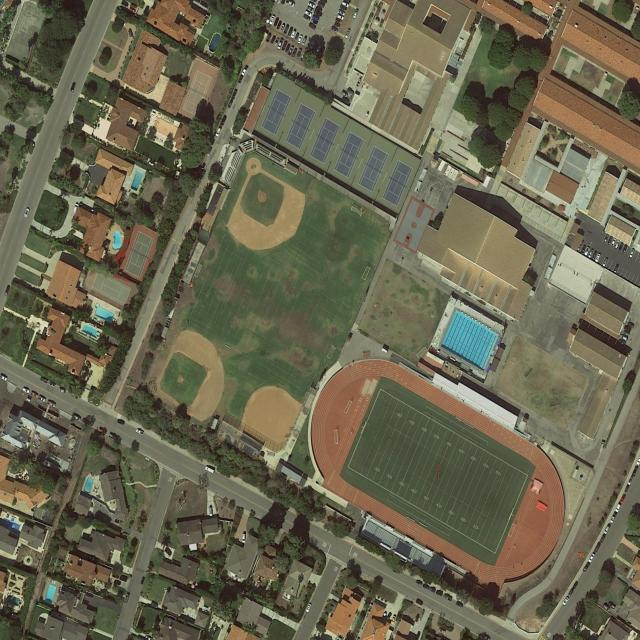small-vehicle: (23, 206, 31, 218), (205, 466, 215, 475), (109, 432, 118, 441), (240, 66, 248, 76), (562, 596, 570, 606), (591, 249, 597, 262), (281, 40, 288, 51), (290, 28, 297, 39), (286, 26, 293, 37), (268, 14, 275, 25), (220, 115, 227, 126), (305, 602, 312, 613), (603, 233, 610, 244), (581, 243, 588, 254), (629, 248, 636, 259), (619, 494, 626, 505), (583, 562, 590, 573), (608, 601, 616, 610), (215, 126, 221, 138), (603, 603, 611, 612), (150, 601, 159, 609), (165, 547, 173, 556), (415, 578, 424, 586), (444, 593, 453, 601), (136, 428, 145, 436), (40, 376, 49, 384), (48, 380, 57, 388), (72, 413, 81, 421), (588, 247, 594, 259), (623, 325, 632, 333), (627, 321, 635, 330), (297, 34, 304, 44), (291, 48, 298, 58), (283, 24, 290, 34), (279, 22, 286, 32), (265, 33, 272, 43), (285, 43, 292, 53), (273, 37, 280, 47), (4, 285, 11, 295), (70, 82, 77, 92), (622, 244, 629, 254), (614, 240, 621, 250), (604, 525, 611, 535), (288, 45, 294, 56), (297, 47, 303, 58), (345, 28, 351, 39), (603, 256, 609, 267), (312, 14, 320, 22), (314, 9, 322, 17), (309, 22, 317, 30), (130, 2, 138, 10), (118, 418, 126, 426), (436, 589, 444, 597), (456, 600, 464, 608), (31, 391, 39, 399), (99, 427, 107, 435), (38, 394, 46, 402), (304, 10, 313, 17), (386, 612, 393, 621), (47, 401, 56, 408), (58, 387, 67, 394), (620, 334, 629, 341), (627, 476, 634, 485), (315, 46, 321, 56), (309, 40, 315, 50), (301, 36, 307, 46), (276, 20, 282, 30), (277, 40, 283, 50), (353, 9, 359, 19), (270, 35, 276, 45), (273, 17, 279, 27), (143, 5, 149, 15), (390, 615, 396, 625), (73, 203, 79, 213), (568, 587, 574, 597), (595, 253, 601, 263), (584, 246, 590, 256), (607, 236, 613, 246), (618, 242, 624, 252), (613, 263, 619, 273), (624, 484, 630, 494), (615, 503, 621, 513), (609, 515, 615, 525), (594, 543, 600, 553), (589, 553, 595, 563), (337, 9, 345, 16), (303, 13, 310, 21), (306, 6, 314, 13), (308, 2, 316, 9), (423, 583, 431, 590), (331, 25, 338, 33), (22, 387, 30, 394), (316, 5, 324, 12), (415, 599, 423, 606), (618, 339, 626, 346), (208, 506, 213, 517), (294, 32, 300, 41), (231, 90, 237, 99), (238, 74, 244, 83), (200, 163, 206, 172), (600, 534, 605, 544), (311, 18, 318, 25), (129, 7, 136, 14), (334, 21, 341, 28), (341, 91, 348, 98), (623, 330, 630, 337), (341, 2, 349, 8), (339, 5, 347, 11), (336, 17, 342, 25), (611, 238, 617, 246), (228, 99, 233, 108), (129, 29, 134, 38), (140, 576, 145, 585), (632, 468, 637, 477), (242, 532, 246, 543), (337, 14, 344, 20), (429, 587, 436, 593), (573, 581, 578, 589)
